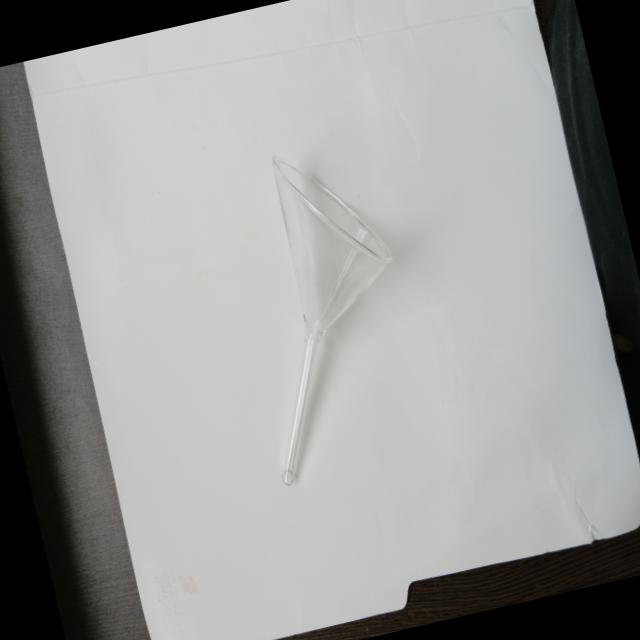funnel: (208, 123, 447, 509)
